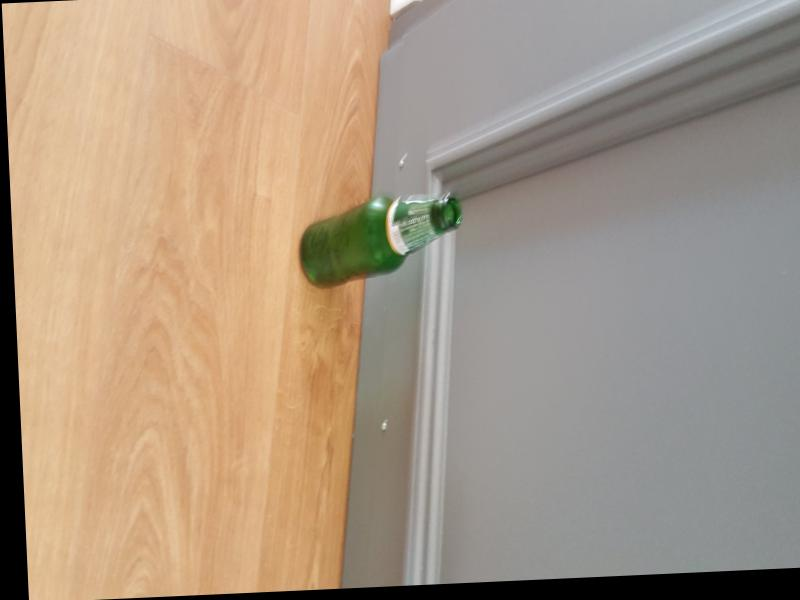Beer: (297, 195, 462, 286)
